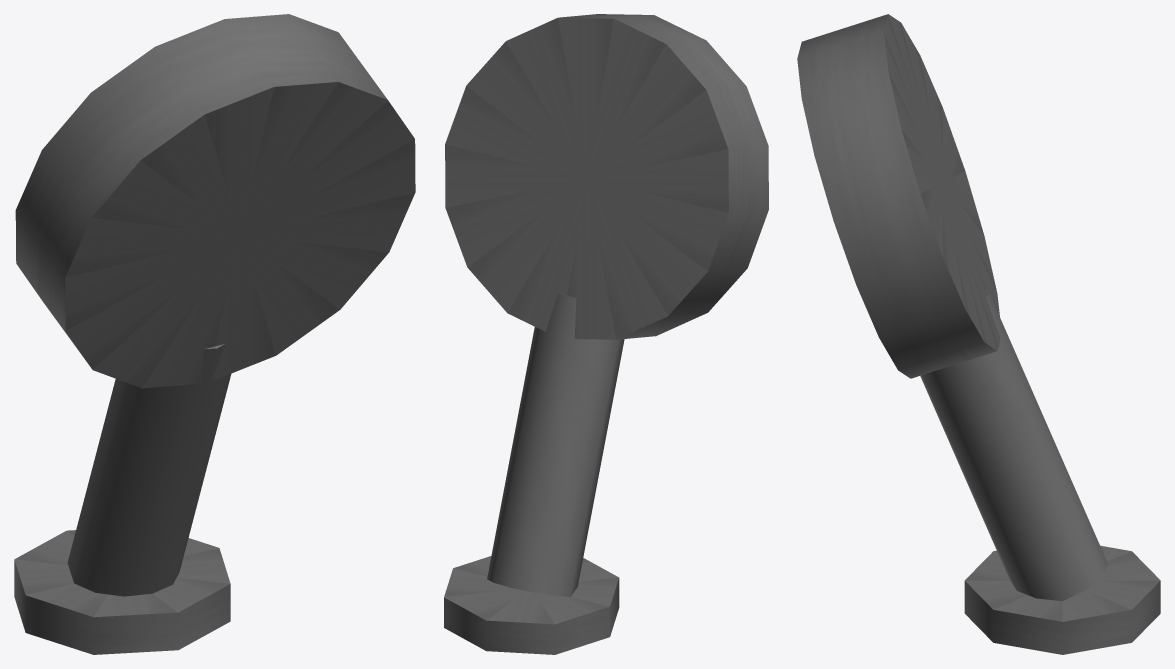
The model's file is mastarmcurve_10x2_c1_down.obj.
3 views of the same model, side by side, from view 1: azimuth 30°, elevation 25°; view 2: azimuth 150°, elevation 25°; view 3: azimuth 270°, elevation 25° (orthographic). The views are drawn at different scales.
Parts seen in each view (by area): view 1: mastarm_10x2_c1_down; view 2: mastarm_10x2_c1_down; view 3: mastarm_10x2_c1_down.
Boxes of the visible parts, bbox=[...] form: mastarm_10x2_c1_down: bbox=[14, 14, 415, 654]; mastarm_10x2_c1_down: bbox=[444, 14, 768, 654]; mastarm_10x2_c1_down: bbox=[797, 14, 1160, 654].
Size of the model in its own units: 0.7229 by 1.31 by 0.7416.
